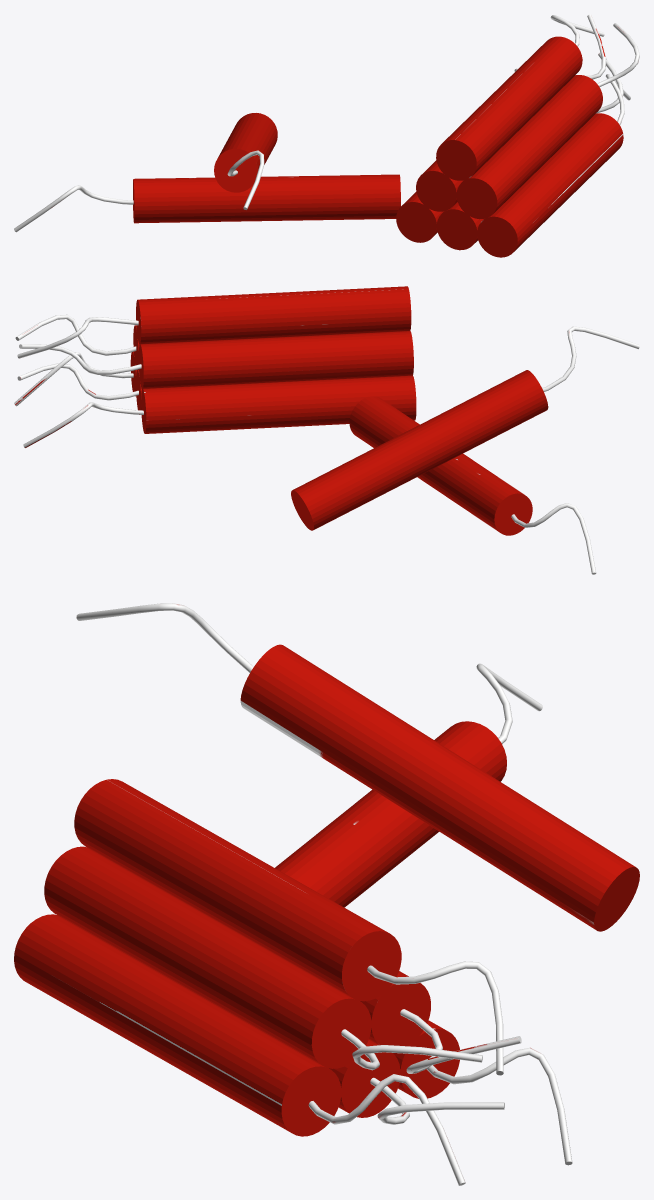
Rendered from dynamite.obj.
The picture shows the model from 3 angles, top to bottom: view 1: azimuth 30°, elevation 25°; view 2: azimuth 150°, elevation 25°; view 3: azimuth 270°, elevation 25°; orthographic projection. The views are drawn at different scales.
Parts seen in each view (by area): view 1: 円柱.003; view 2: 円柱.003; view 3: 円柱.003.
Boxes of the visible parts, x1,y1,x2,y2 form: 円柱.003: [14, 14, 639, 257]; 円柱.003: [14, 286, 639, 574]; 円柱.003: [14, 603, 639, 1185].
Size of the model in its own units: 3.08 by 0.6543 by 1.68.
Materials: 1 (1 with a texture image).
